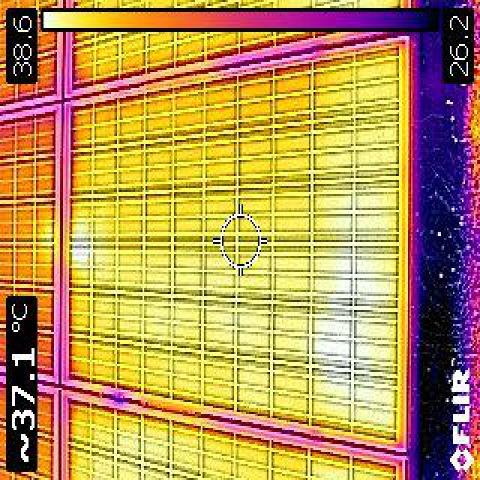fault: (73, 226, 92, 267)
